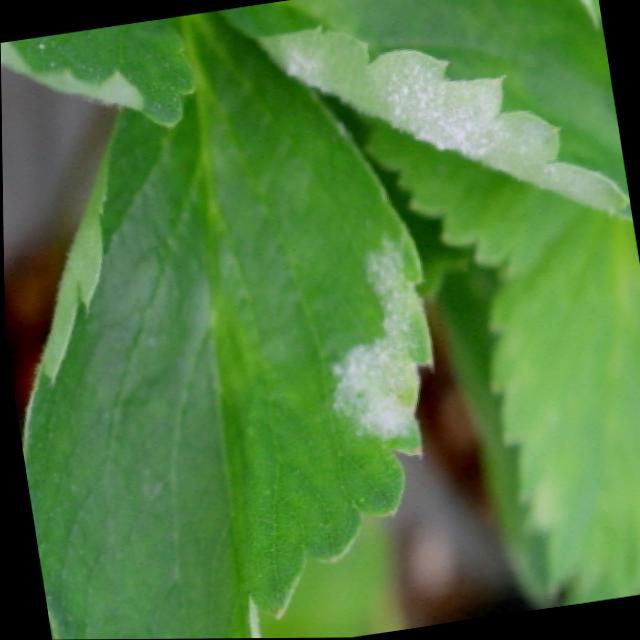Powdery Mildew Leaf: (20, 11, 432, 640), (210, 0, 633, 228), (0, 16, 198, 129)
